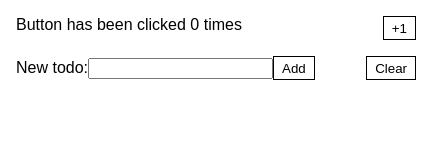
Test: increased counter by 1 when clicked
Click the button "+1".
click(399, 28)  # box [383, 16, 416, 40]
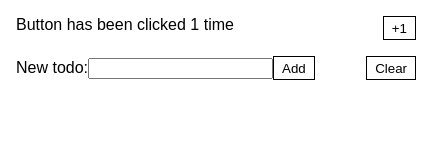
Check: the text "Button has been clicked 1 time" is shown, box [16, 16, 234, 40]
Click the button "+1".
click(399, 28)  # box [383, 16, 416, 40]
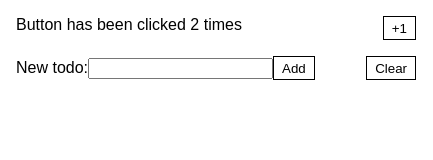
Check: the text "Button has been clicked 2 times" is shown, box [16, 16, 242, 40]
